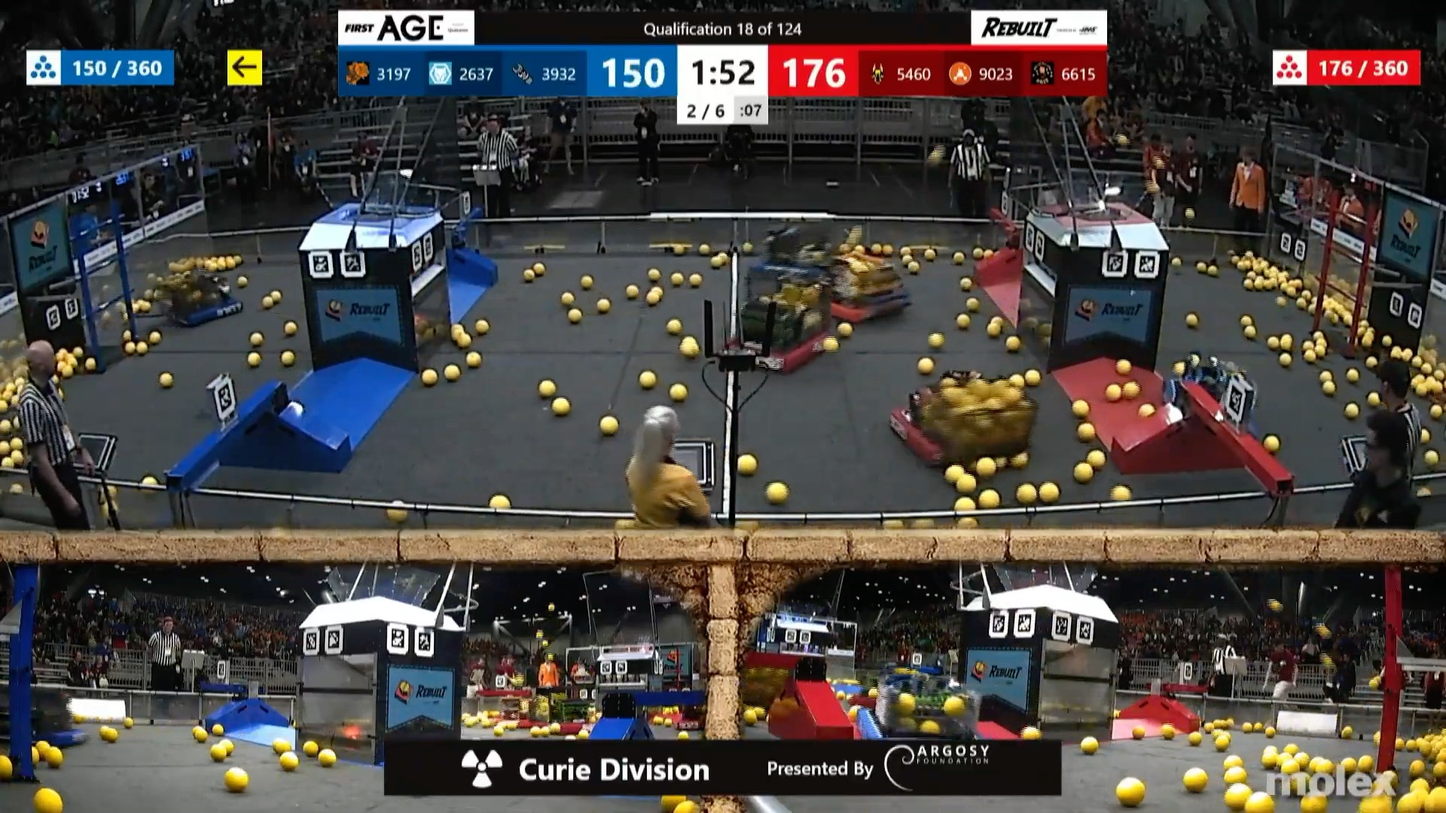bumpers: (880, 403, 1024, 470), (712, 321, 842, 375), (148, 288, 258, 331), (811, 285, 917, 327), (14, 716, 93, 749)
